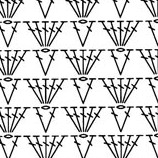enseble_chain: (1, 101, 39, 140), (37, 16, 75, 54), (112, 15, 149, 54), (77, 101, 113, 139), (38, 74, 74, 111), (114, 74, 149, 110), (19, 14, 51, 52), (21, 72, 50, 109), (79, 46, 110, 80), (4, 47, 34, 81), (59, 102, 88, 137), (95, 73, 123, 109), (34, 105, 65, 137), (110, 47, 140, 80), (133, 101, 158, 138), (60, 46, 87, 80), (110, 105, 139, 136), (74, 19, 102, 51), (93, 130, 124, 158), (41, 131, 73, 158), (76, 76, 103, 108), (116, 131, 147, 158), (0, 20, 27, 51), (1, 77, 27, 109), (100, 17, 125, 50), (135, 45, 158, 80), (39, 49, 64, 79), (67, 76, 89, 108), (0, 133, 26, 158), (75, 133, 101, 158), (142, 18, 158, 50), (69, 134, 87, 158), (2, 0, 16, 18), (77, 0, 91, 18)
fan: (66, 47, 89, 78), (68, 19, 89, 50), (38, 78, 55, 105), (113, 77, 130, 104), (2, 49, 18, 76), (143, 133, 158, 158), (109, 135, 125, 158)
